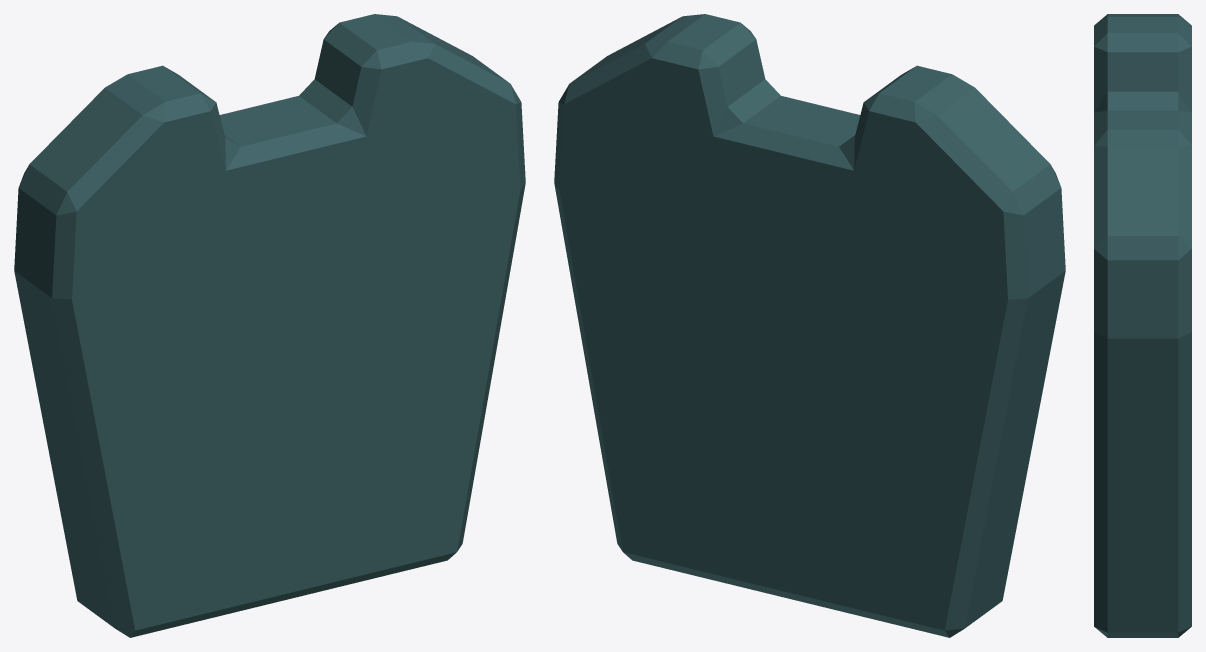
The model's file is light_chest.glb.
3 renders of one model, left to right at view 1: azimuth 30°, elevation 25°; view 2: azimuth 150°, elevation 25°; view 3: azimuth 270°, elevation 25°, orthographic. The views are drawn at different scales.
Visible parts, largest first — view 1: light_chest; view 2: light_chest; view 3: light_chest.
Part boxes in pixels (x1,y1,x2,y2): light_chest: (14,14,525,637); light_chest: (554,14,1065,637); light_chest: (1094,14,1191,637).
Size of the model in its own units: 0.94 by 1 by 0.18.
